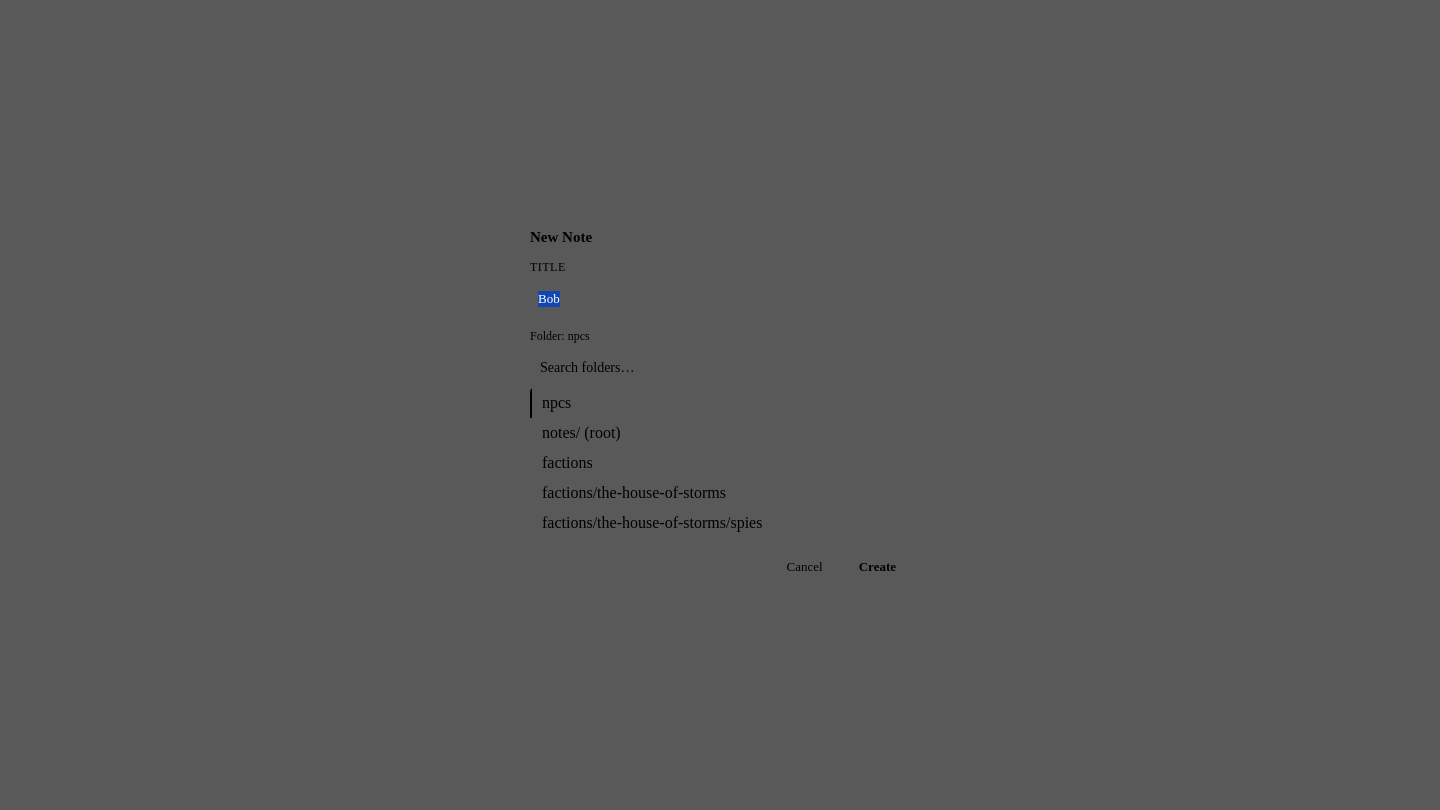
Test: NewNoteDialog › changing the title clears the warning
Press Enter in the field with id "new-note-title-input", box [530,284,910,312]
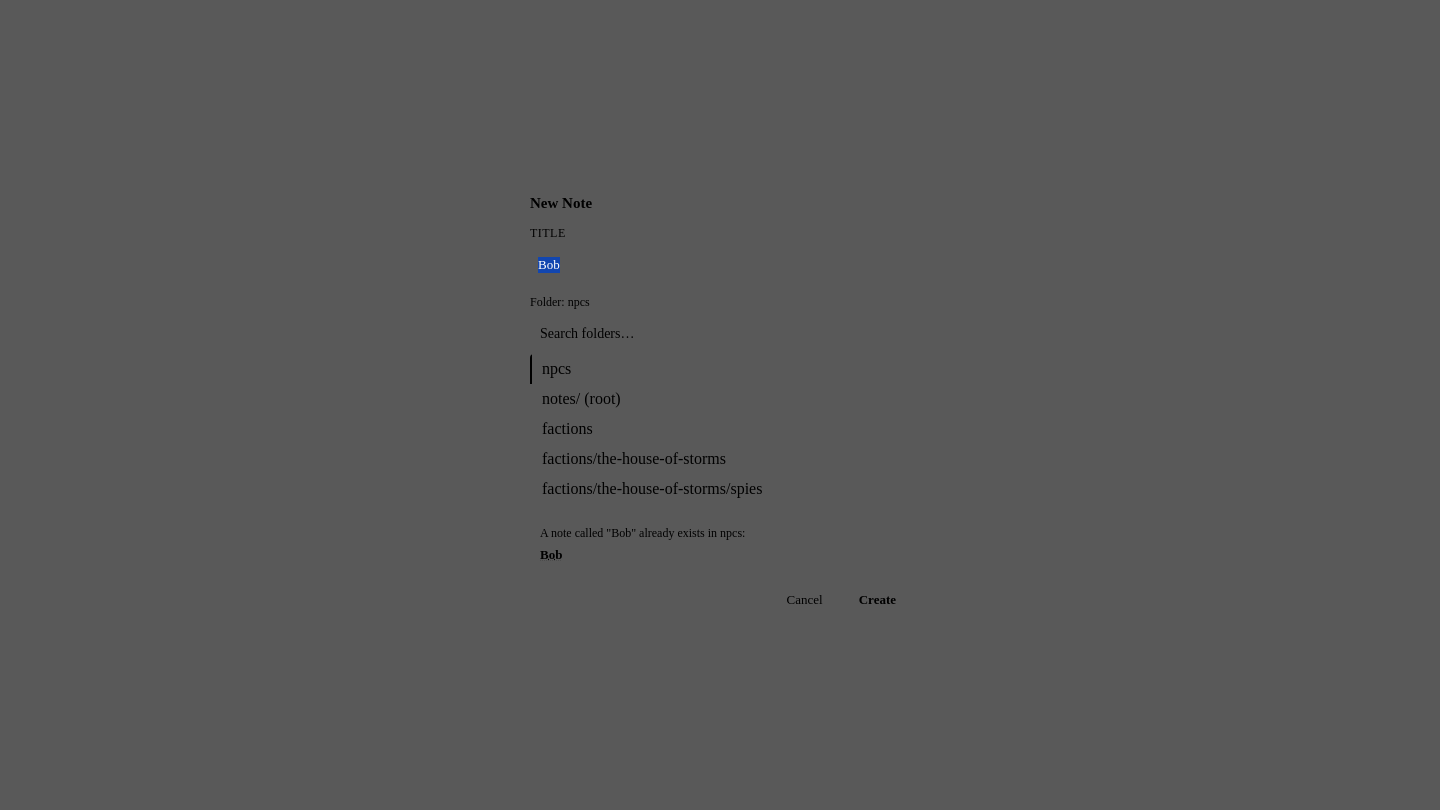
Expected: the element with class "new-note-conflict" is shown, [540,526,745,562]
Replace the text in the field with id "new-note-title-input" with "Bob 2" at [720, 265], box [530,251,910,279]
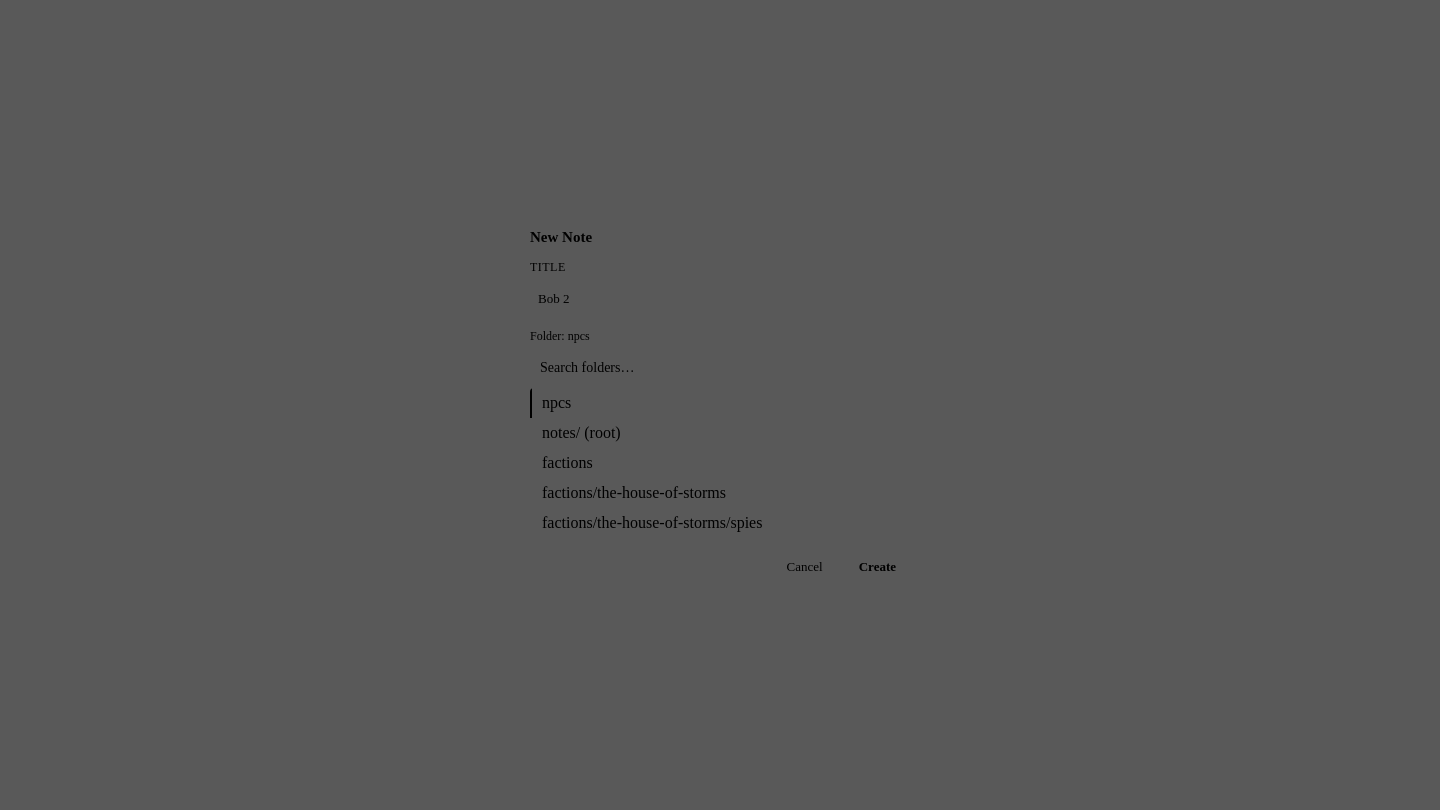
Expected: the element with class "new-note-conflict" is gone
